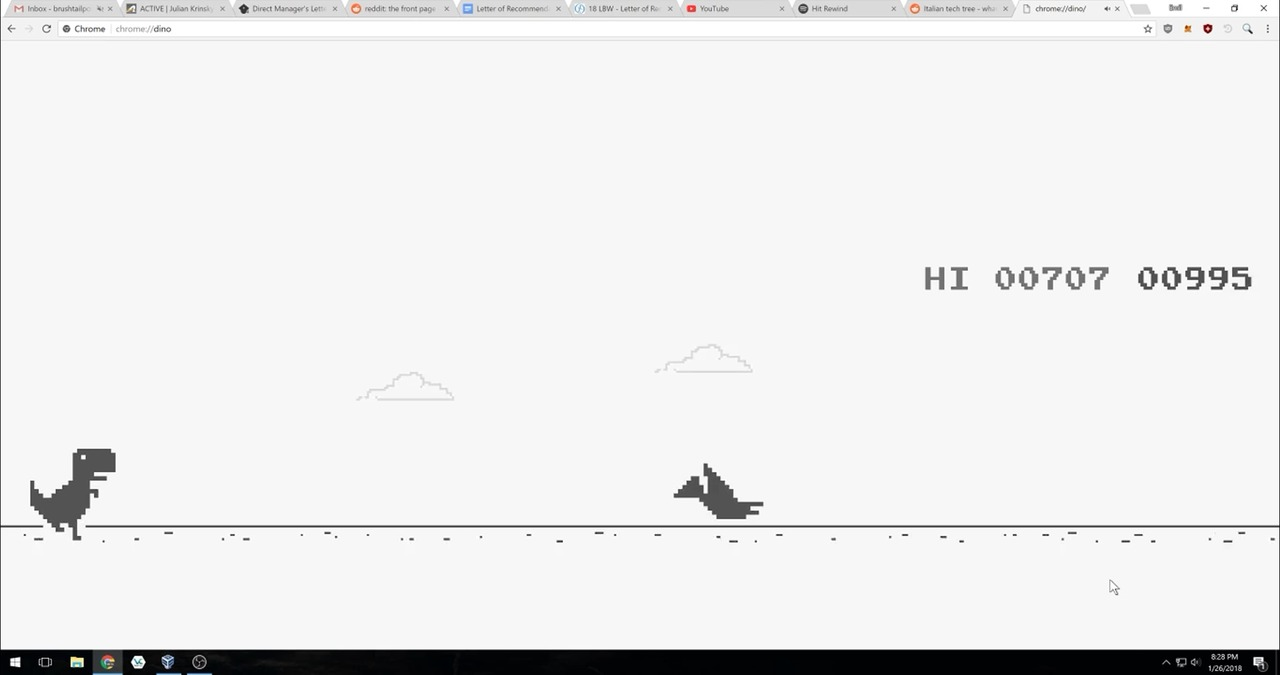bird: (670, 460, 766, 523)
dinosaur: (29, 445, 118, 544)
